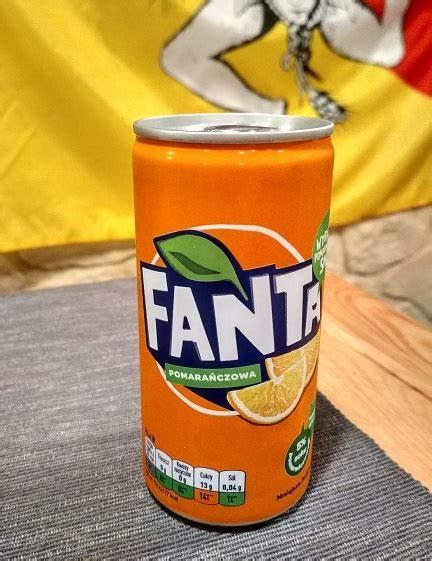metal: (133, 113, 335, 527)
